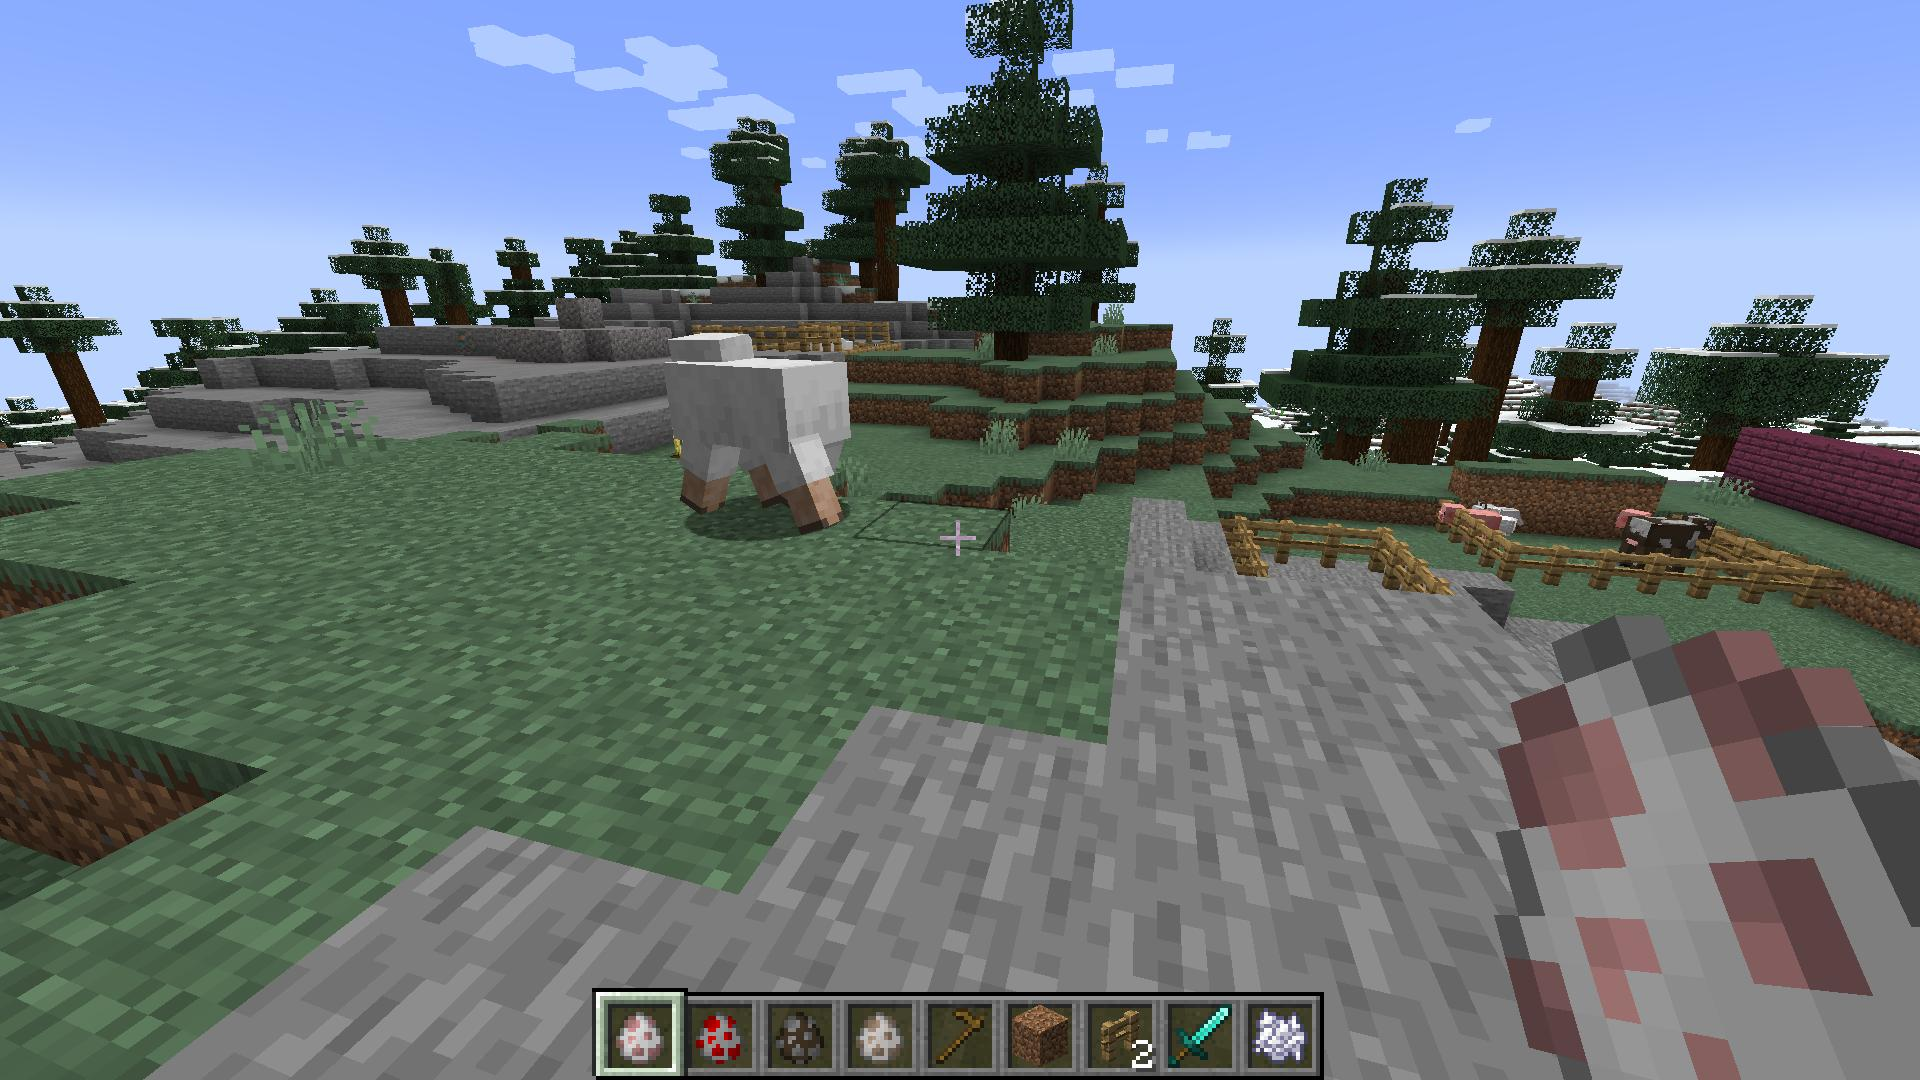sheep: (658, 323, 857, 535)
